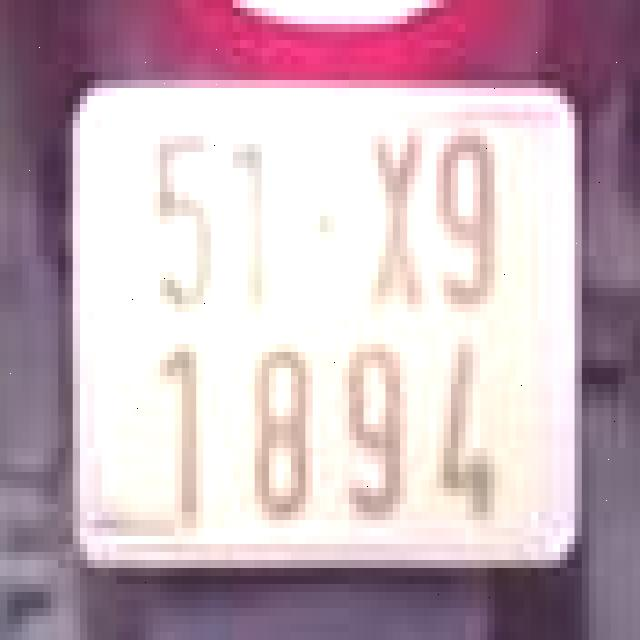1: (160, 352, 233, 560), (229, 124, 295, 324)
4: (454, 348, 542, 556)
5: (149, 128, 229, 336)
8: (258, 340, 338, 548)
9: (345, 340, 440, 564), (451, 116, 538, 324)
X: (364, 112, 436, 328)
